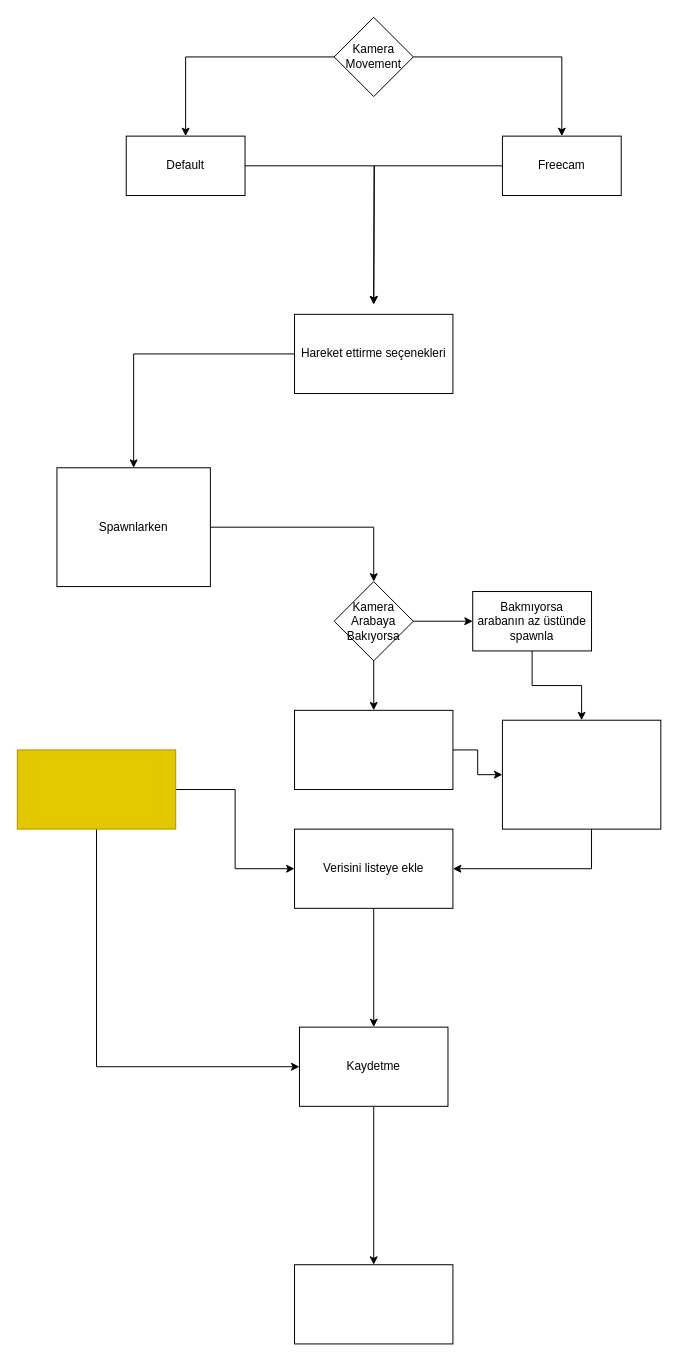
Some shapes in this 678 by 1361 pixel diagram are drawn without their labels. Here are the shapes that lost their labels. From the top down, the box of each, then its label:
(294, 709, 453, 790): Raycast yüzeynormaline göre yerleştir
(16, 749, 176, 829): Class Vinyl Quartenion rotation Vector3 Position Int vinyl Number
(501, 719, 661, 829): 3D Editördeki gibi pozisyonla
(294, 1264, 453, 1344): Garaj Scriptiyle Kaydediciye ekle Verileri
